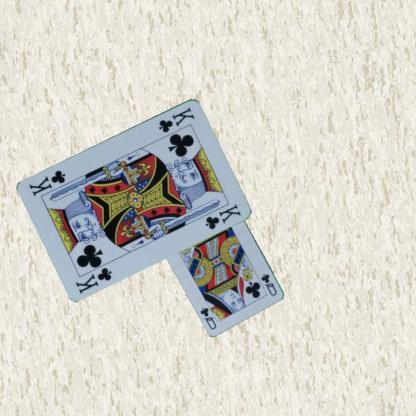Kc: (73, 264, 114, 295), (156, 104, 196, 134)
Qc: (258, 272, 278, 298)
